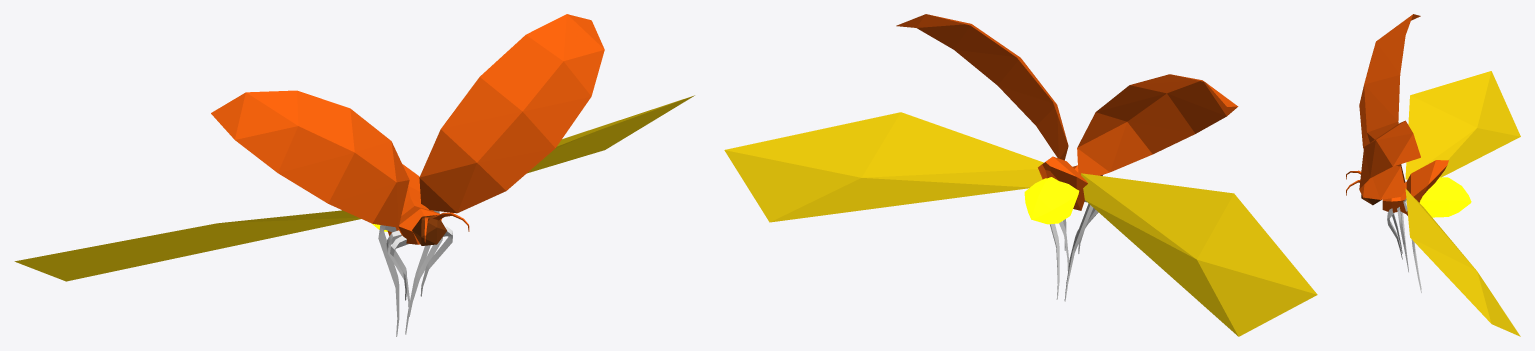
File: firefly5.dae
The picture shows the model from 3 angles, left to right: view 1: azimuth 30°, elevation 25°; view 2: azimuth 150°, elevation 25°; view 3: azimuth 270°, elevation 25°; orthographic projection. The views are drawn at different scales.
Parts seen in each view (by area): view 1: Sphere, right_wing, left_wing, torso, Polygon.2, Polygon, head, Polygon.1; view 2: left_wing, right_wing, Sphere, bulb, torso, Polygon.2; view 3: right_wing, Sphere, left_wing, bulb, torso, Polygon, Polygon.1, Polygon.2.
Part boxes in pixels (box(x1,y1,x2,y2)): Sphere: box(211, 14, 604, 227); right_wing: box(14, 210, 360, 281); left_wing: box(527, 95, 694, 173); torso: box(387, 164, 441, 244); Polygon.2: box(378, 210, 439, 336); Polygon: box(390, 226, 452, 300); head: box(412, 215, 446, 245); Polygon.1: box(386, 230, 442, 316); left_wing: box(724, 112, 1043, 222); right_wing: box(1081, 173, 1317, 336); Sphere: box(896, 14, 1238, 175); bulb: box(1024, 177, 1079, 224); torso: box(1038, 156, 1087, 210); Polygon.2: box(1050, 203, 1093, 301); right_wing: box(1405, 71, 1520, 179); Sphere: box(1359, 14, 1420, 199); left_wing: box(1405, 188, 1520, 336); bulb: box(1419, 177, 1471, 217); torso: box(1382, 160, 1448, 215); Polygon: box(1387, 208, 1402, 259); Polygon.1: box(1397, 207, 1408, 272); Polygon.2: box(1402, 198, 1421, 292).
Bounding box in the file's own units: 128 × 51.25 × 37.27.
